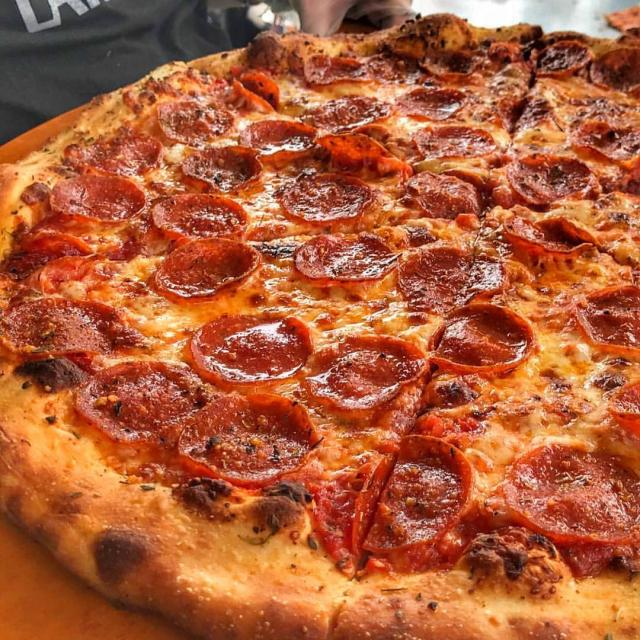pepperoni: (315, 433, 476, 570), (502, 442, 640, 551), (175, 393, 323, 488), (76, 358, 208, 444), (306, 336, 431, 416), (190, 312, 314, 386), (398, 245, 508, 316), (429, 301, 536, 373), (0, 298, 127, 357), (152, 237, 264, 299), (290, 228, 400, 284), (571, 283, 640, 362), (49, 172, 148, 225), (506, 152, 598, 206), (277, 173, 377, 222), (0, 228, 100, 276), (149, 194, 249, 242), (318, 126, 415, 175), (499, 214, 599, 259), (65, 131, 164, 175), (180, 142, 265, 192), (407, 170, 491, 220), (156, 95, 235, 141), (299, 95, 391, 134), (238, 119, 320, 160), (413, 124, 499, 162), (568, 118, 640, 162), (296, 51, 374, 88), (530, 39, 596, 80), (588, 46, 640, 92), (395, 88, 469, 120), (420, 46, 483, 81), (602, 375, 640, 433), (226, 71, 280, 110), (496, 95, 552, 132), (367, 50, 422, 86)
pizza: (0, 10, 640, 640)
